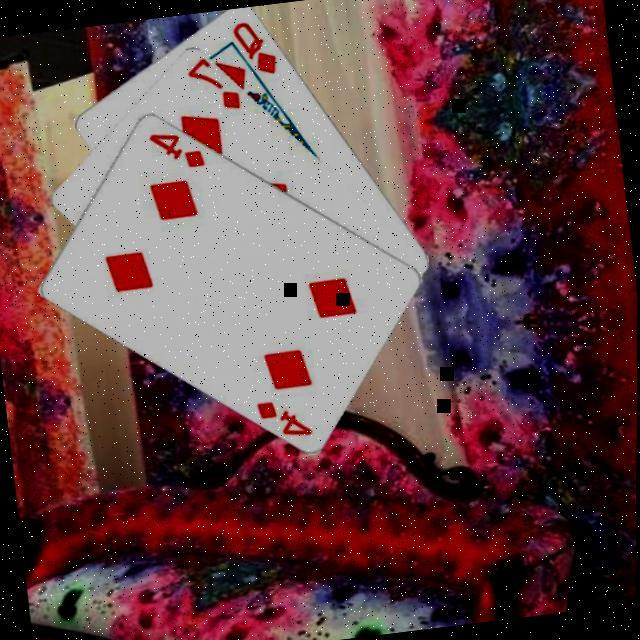4D: (146, 122, 210, 174), (254, 390, 317, 442)
7D: (184, 50, 246, 114)
QD: (230, 12, 282, 79)
